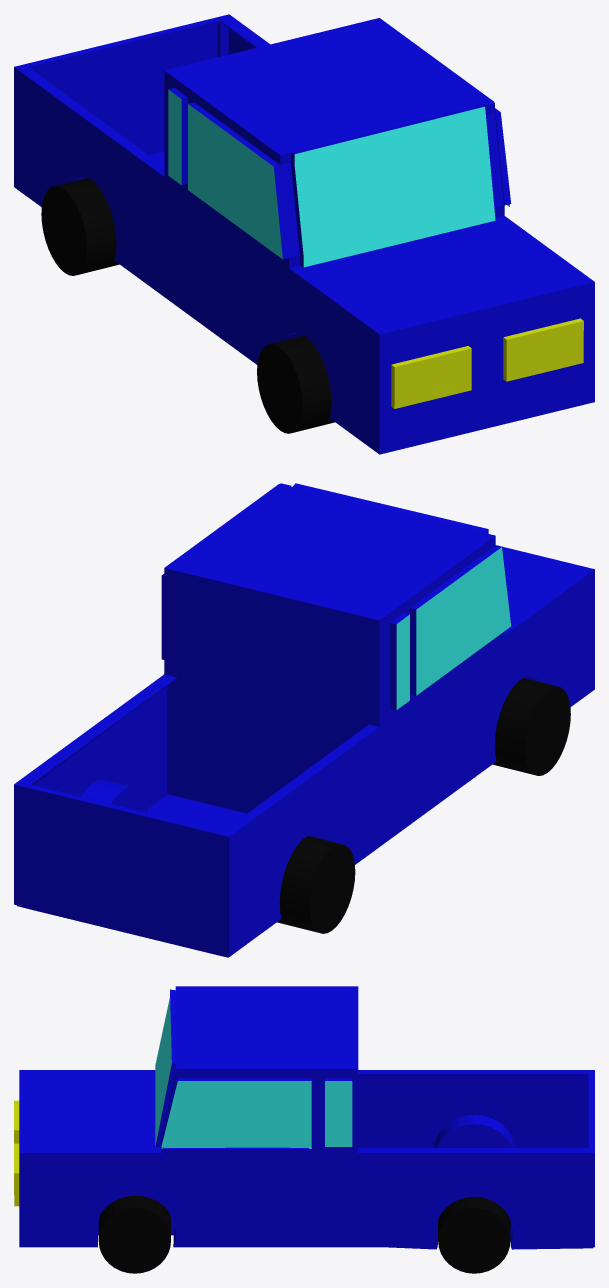
File: AsgoresTruck1.fbx
3 renders of one model, top to bottom at view 1: azimuth 30°, elevation 25°; view 2: azimuth 150°, elevation 25°; view 3: azimuth 270°, elevation 25°, orthographic. The views are drawn at different scales.
Parts seen in each view (by area): view 1: Cube.002, wheel; view 2: Cube.002, wheel; view 3: Cube.002, wheel.
Part boxes in pixels (<box>): Cube.002: <box>14,14,594,454</box>; wheel: <box>41,178,334,433</box>; Cube.002: <box>14,483,594,957</box>; wheel: <box>277,678,570,933</box>; Cube.002: <box>14,986,594,1249</box>; wheel: <box>98,1195,510,1273</box>.
Size of the model in its own units: 244 by 223 by 594.
